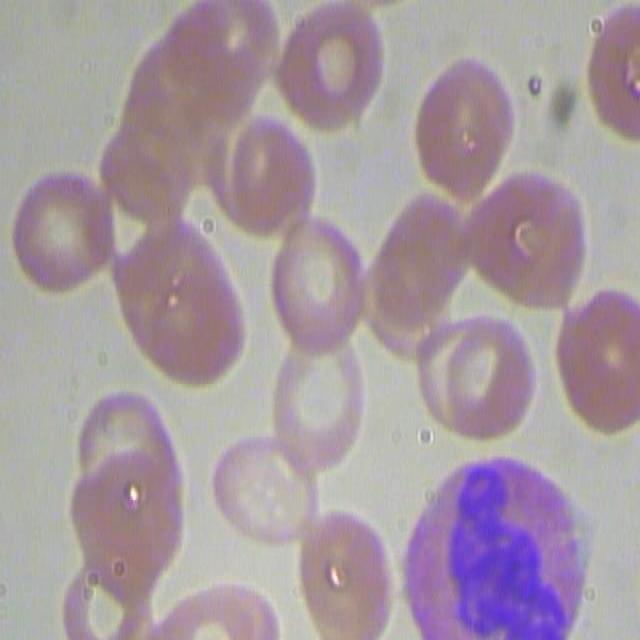RBC: (68, 385, 193, 589), (119, 228, 246, 389), (360, 186, 470, 361), (461, 167, 593, 312), (255, 0, 386, 144), (410, 56, 518, 216), (414, 312, 540, 441), (205, 115, 317, 248), (7, 166, 114, 298), (270, 215, 369, 354), (210, 432, 320, 554), (270, 338, 368, 472), (295, 510, 392, 640), (555, 286, 640, 433), (585, 2, 640, 145), (62, 559, 148, 638)
WBC: (394, 441, 588, 640)
